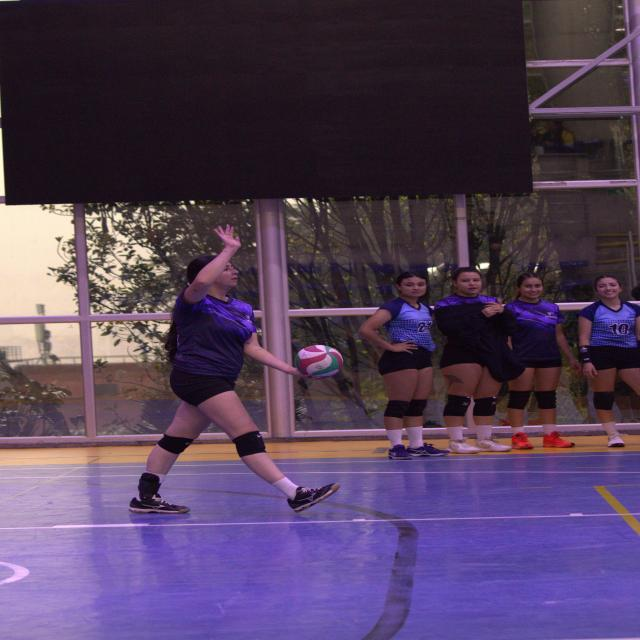volleyball: (292, 344, 342, 377)
